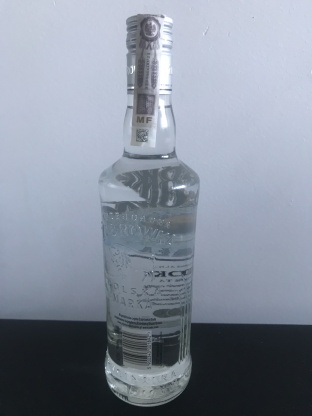nakretka: (123, 10, 175, 98)
